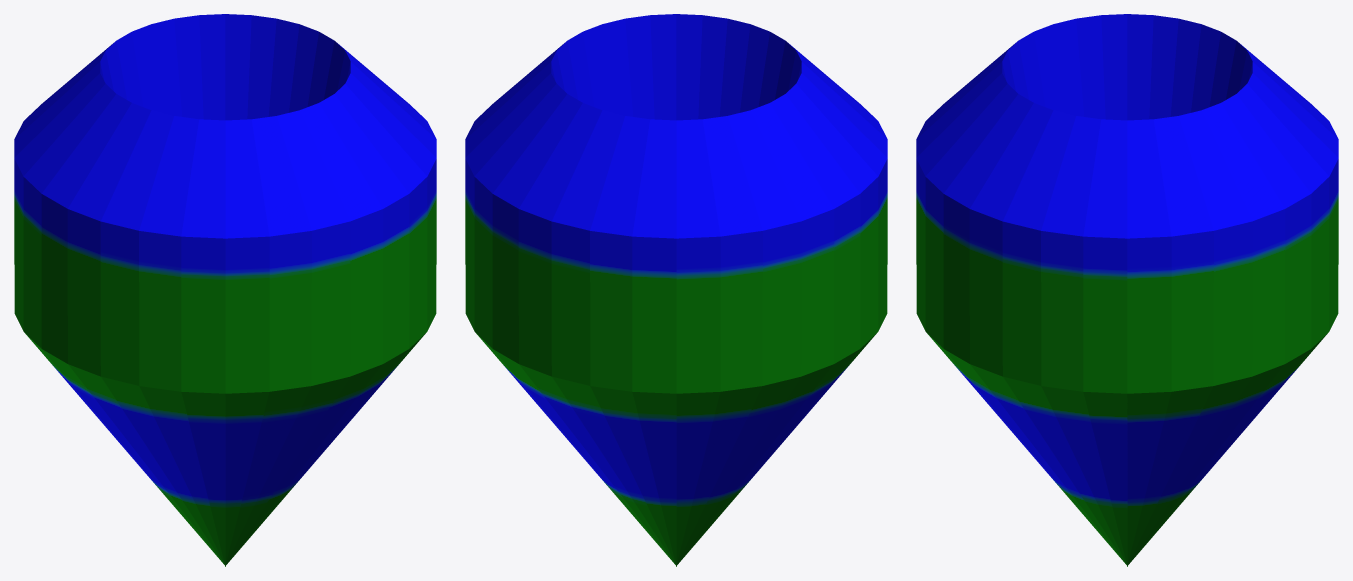
3 views of the same model, side by side, from view 1: azimuth 30°, elevation 25°; view 2: azimuth 150°, elevation 25°; view 3: azimuth 270°, elevation 25° (orthographic).
Parts seen in each view (by area): view 1: algeomath; view 2: algeomath; view 3: algeomath.
Boxes of the visible parts, <box> form: algeomath: <box>14,14,436,566</box>; algeomath: <box>465,14,887,566</box>; algeomath: <box>916,14,1338,566</box>.
Bounding box in the file's own units: 9.99 × 12.97 × 9.93.
1 material, 1 textured.
